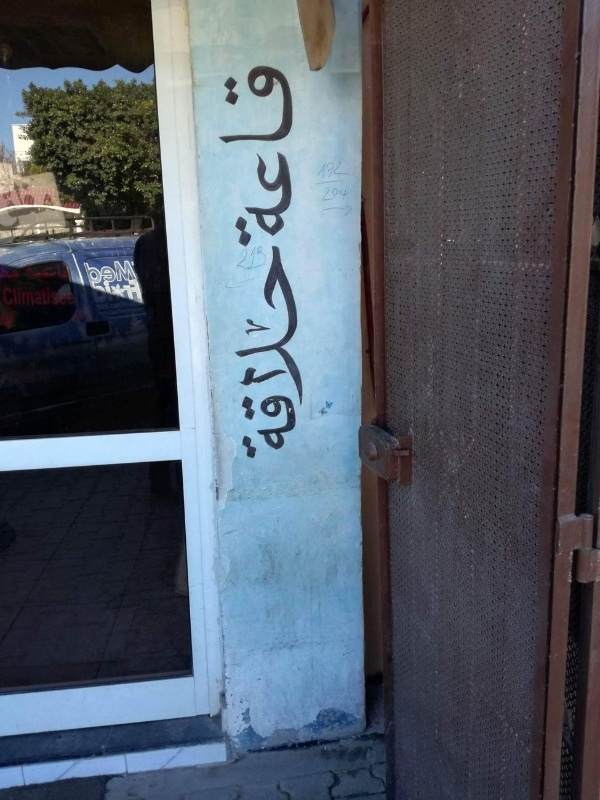text: (241, 237, 256, 467), (257, 237, 272, 467), (273, 237, 288, 467), (289, 237, 304, 467), (225, 57, 240, 250), (241, 57, 256, 250), (257, 57, 272, 250), (273, 57, 288, 250), (289, 57, 304, 250), (213, 57, 224, 250), (233, 237, 240, 467), (1, 178, 16, 232), (17, 178, 32, 232), (33, 178, 48, 232), (305, 237, 308, 467), (49, 178, 59, 232), (97, 261, 112, 286), (113, 261, 128, 286), (241, 245, 256, 270), (97, 281, 112, 305), (113, 281, 128, 305), (129, 281, 143, 305), (17, 285, 32, 307), (33, 285, 48, 307), (49, 285, 64, 307), (84, 261, 96, 286), (33, 263, 48, 282), (49, 263, 64, 282), (257, 245, 268, 270), (2, 262, 16, 281), (4, 285, 16, 307), (321, 161, 336, 178), (65, 285, 76, 307), (337, 161, 351, 178), (129, 261, 138, 286), (337, 186, 352, 201), (322, 186, 336, 201), (129, 299, 145, 311), (22, 263, 32, 282), (97, 299, 112, 311), (113, 299, 128, 311), (129, 306, 145, 317), (113, 306, 128, 317), (98, 306, 112, 317), (91, 281, 96, 305), (65, 263, 71, 282), (17, 262, 21, 281), (316, 161, 320, 178), (239, 245, 240, 270)
